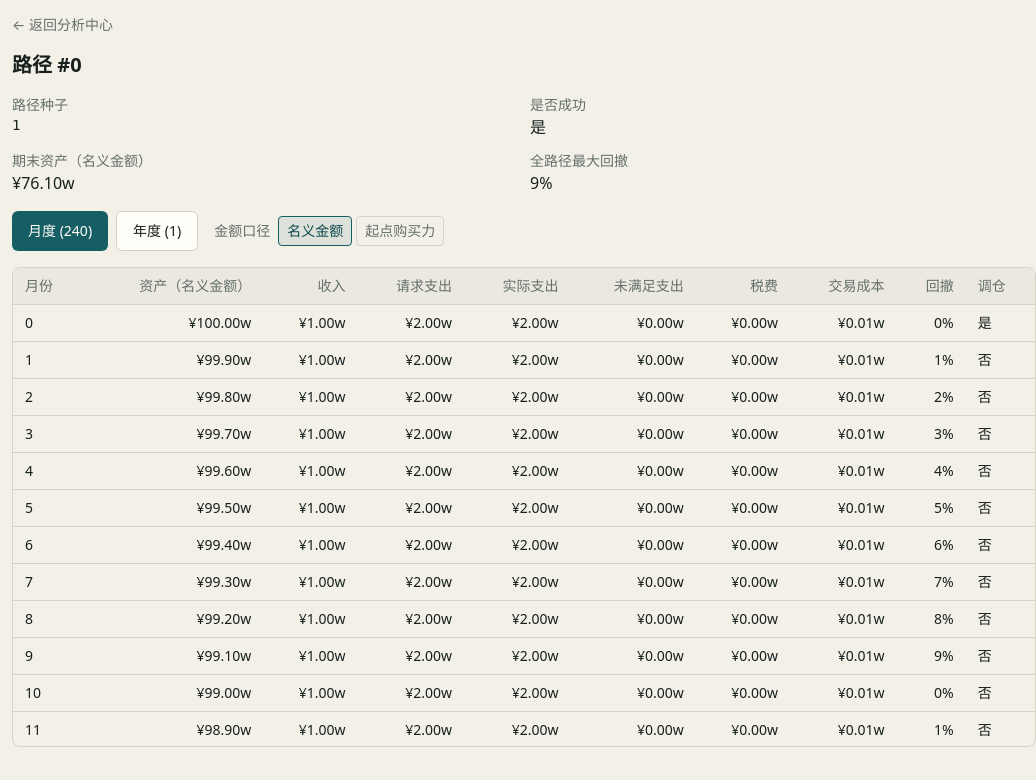
Test case: PathDetailPage › year-end config control opens on keyboard focus and click
Expected: the button "月度 (240)" is shown, x1=12 y1=211 x2=108 y2=251
Click the button "年度 (1)" at (157, 231), box x1=116 y1=211 x2=198 y2=251
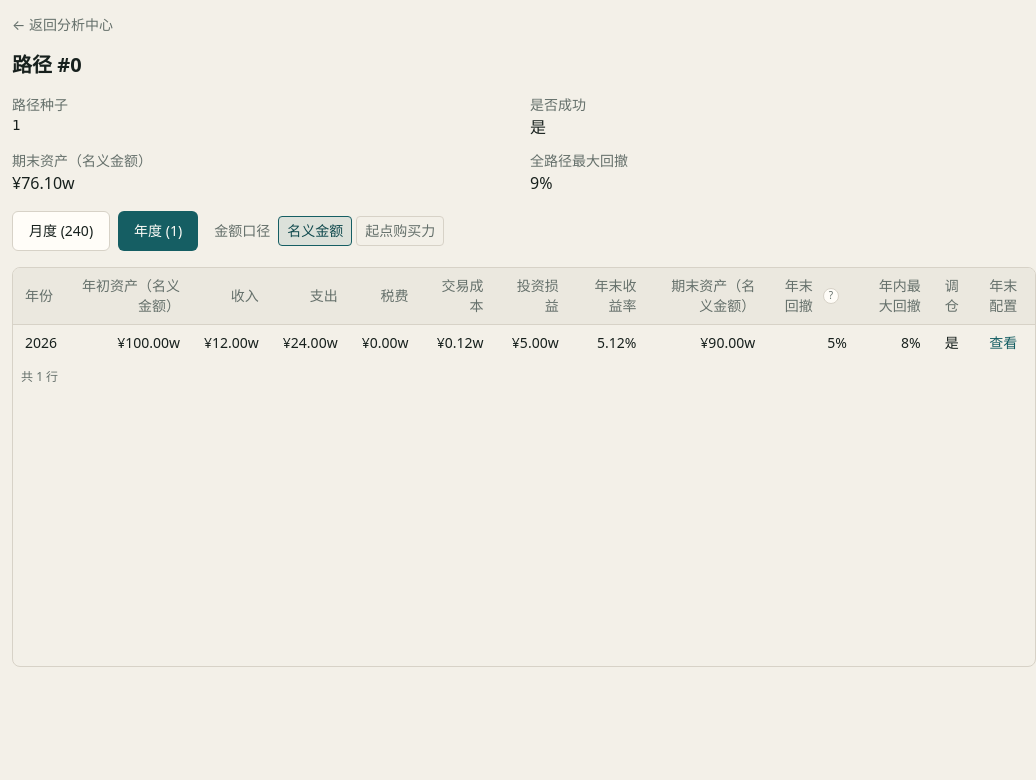
# Keyboard focus opens it.
Focus the button with aria-label "查看 2026 年末资产配置" at (1003, 343), box x1=989 y1=333 x2=1017 y2=353
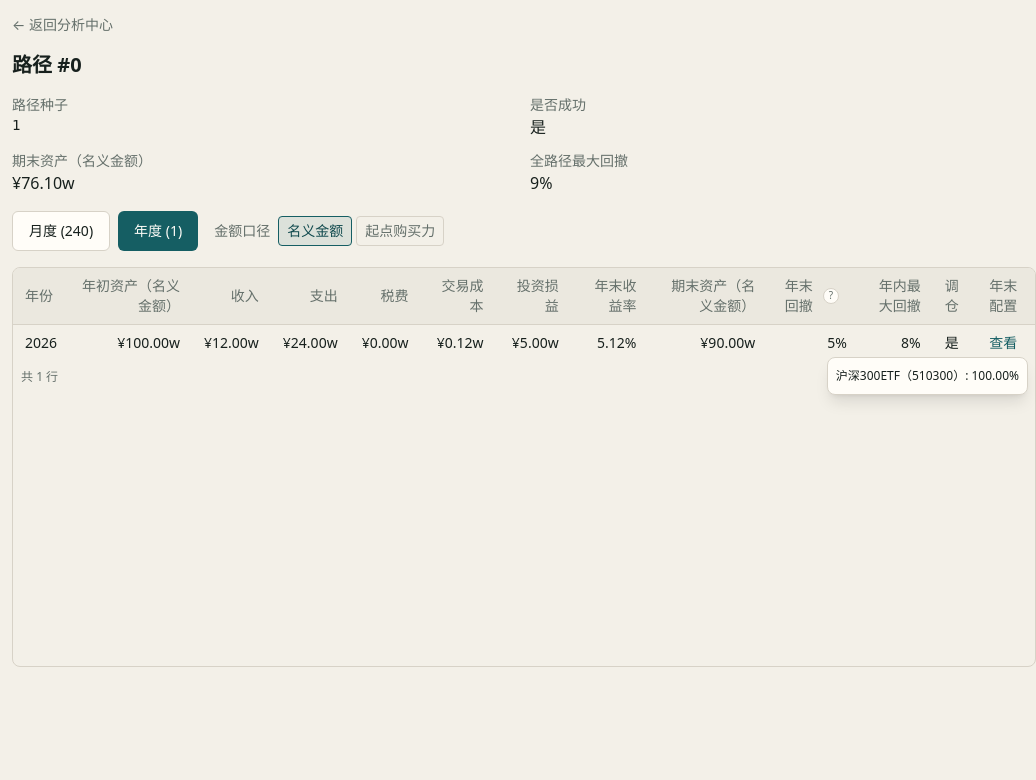
Now the list item "沪深300ETF（510300）: 100.00%" is shown, box x1=836 y1=366 x2=1019 y2=386
# A click actually toggles it closed, then open again.
Click the button with aria-label "查看 2026 年末资产配置" at (1003, 343), box x1=989 y1=333 x2=1017 y2=353
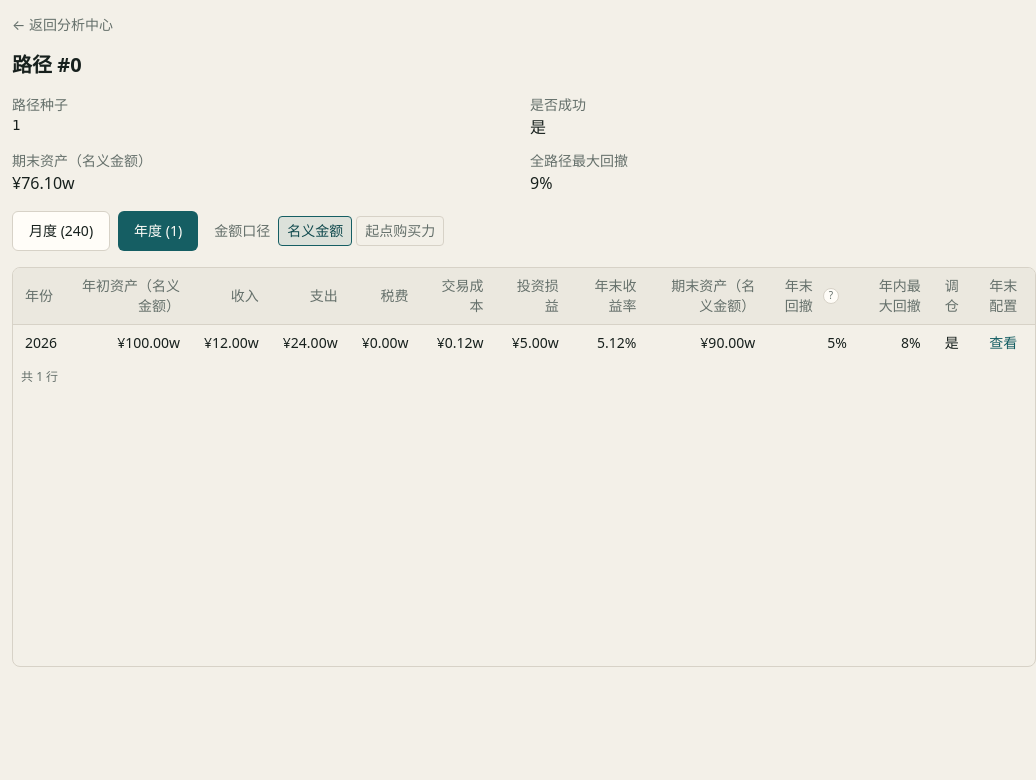
Now the list item "沪深300ETF（510300）: 100.00%" is gone
Click the button with aria-label "查看 2026 年末资产配置" at (1003, 343), box x1=989 y1=333 x2=1017 y2=353
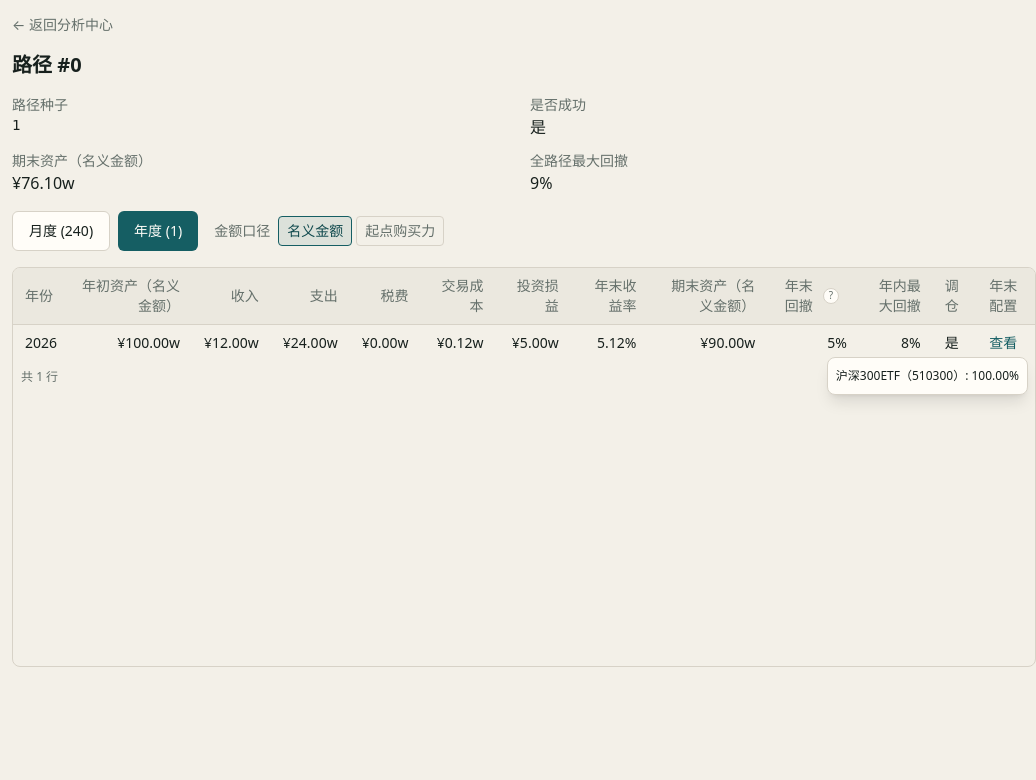
Now the list item "沪深300ETF（510300）: 100.00%" is shown, box x1=836 y1=366 x2=1019 y2=386
